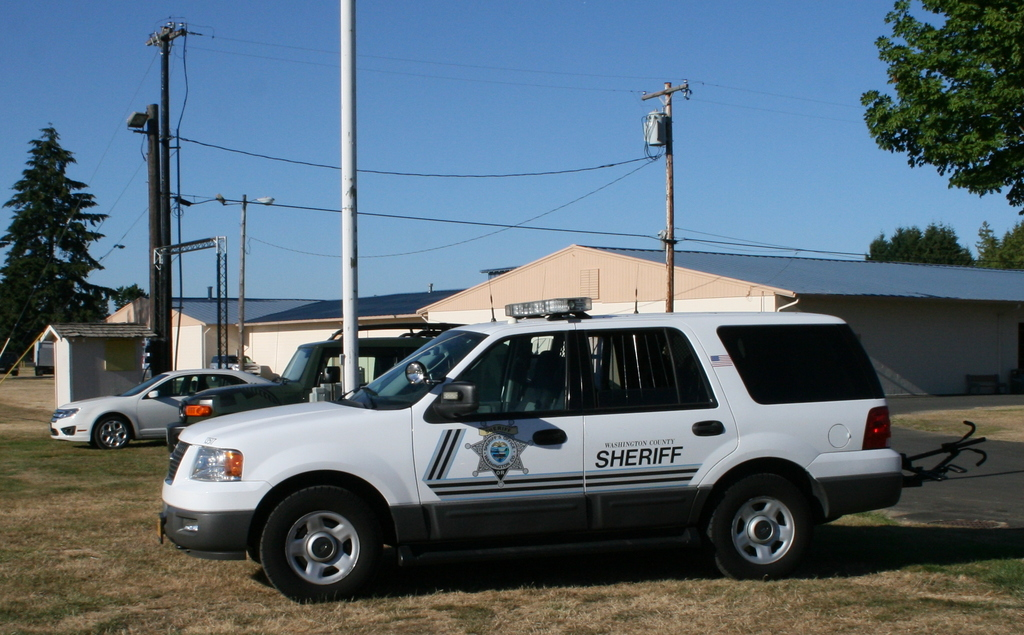Tree: (0, 123, 148, 370), (861, 0, 1024, 216), (866, 219, 1024, 271)
